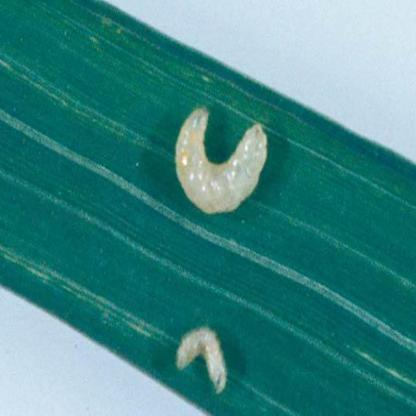whorl-maggot: (172, 96, 268, 221), (167, 319, 234, 397)
